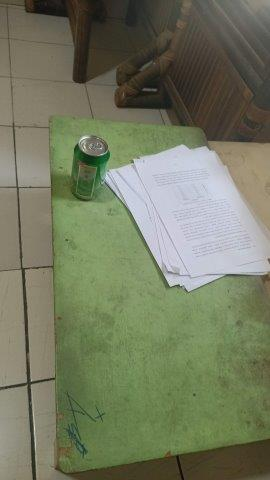kaleng: (70, 135, 110, 203)
kertas: (107, 142, 270, 289)
